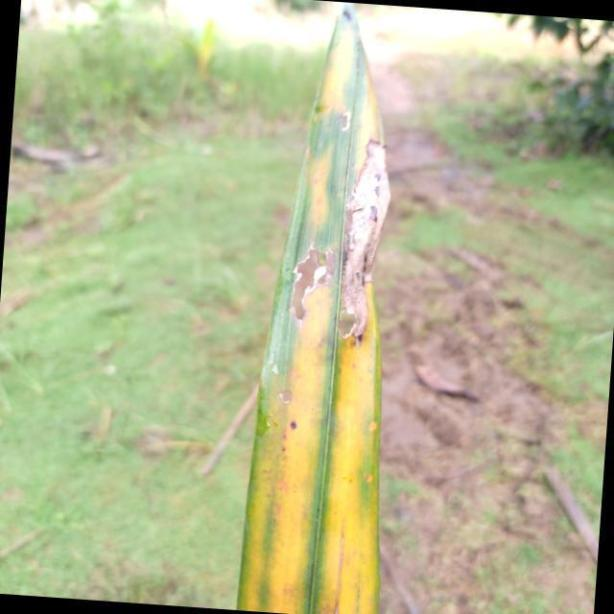Megnesium: (240, 0, 395, 614)
